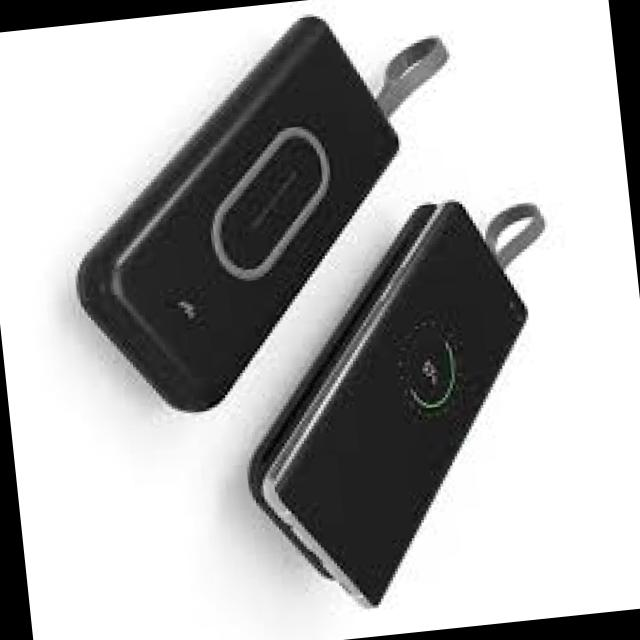portable-charger: (42, 7, 432, 430)
